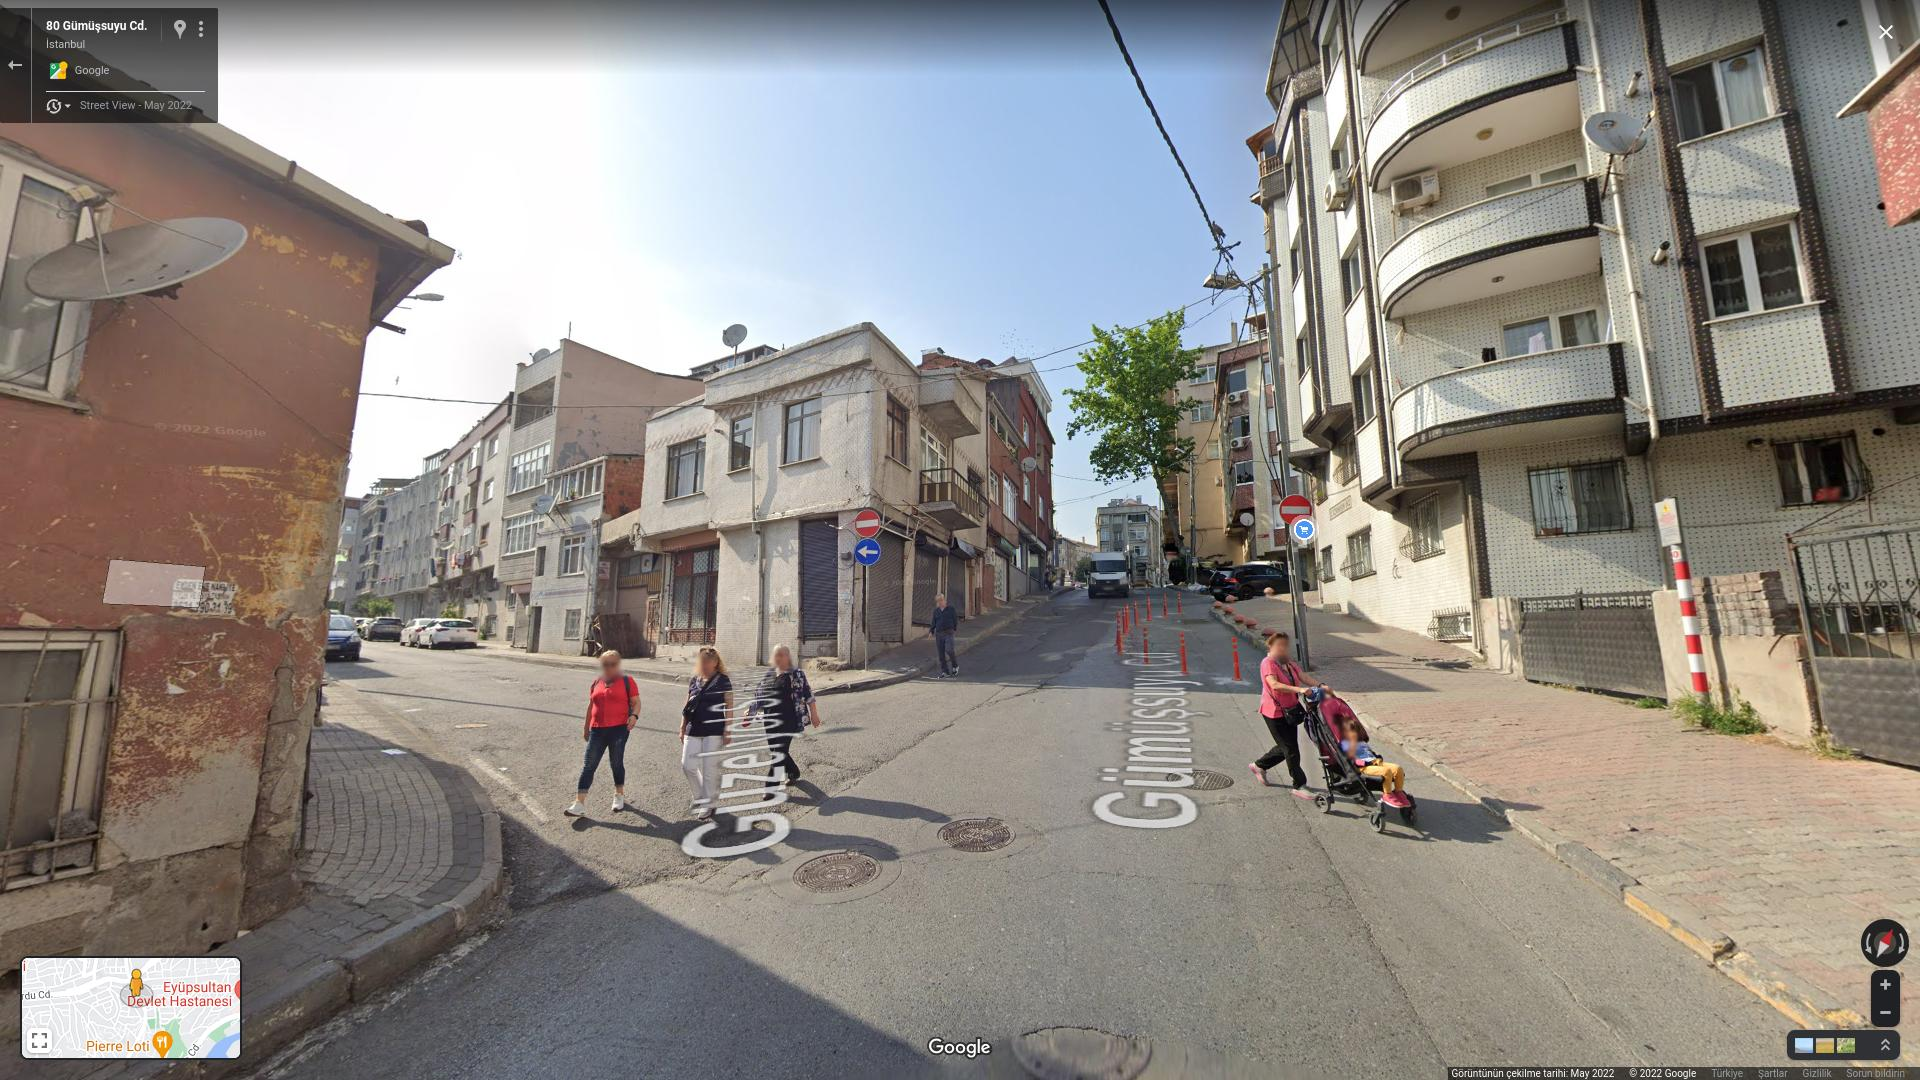turnleft: (856, 538, 881, 564)
